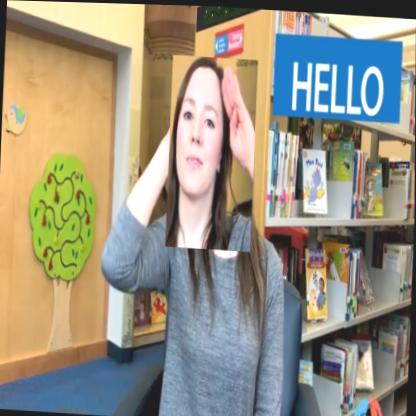Hello: (166, 53, 258, 251)
